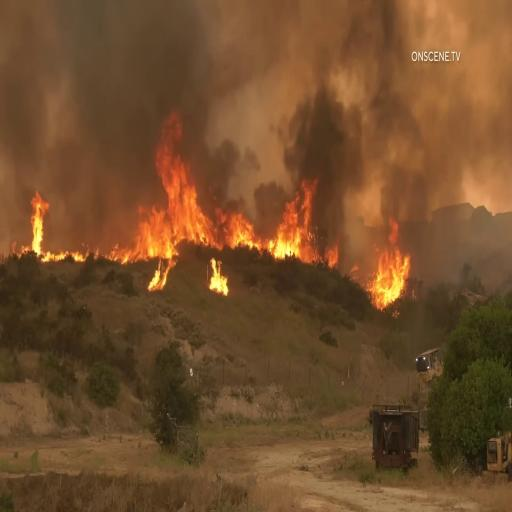fire: (135, 101, 210, 253), (274, 178, 326, 268), (368, 235, 418, 319), (18, 194, 53, 268)
smoke: (302, 44, 364, 165)
